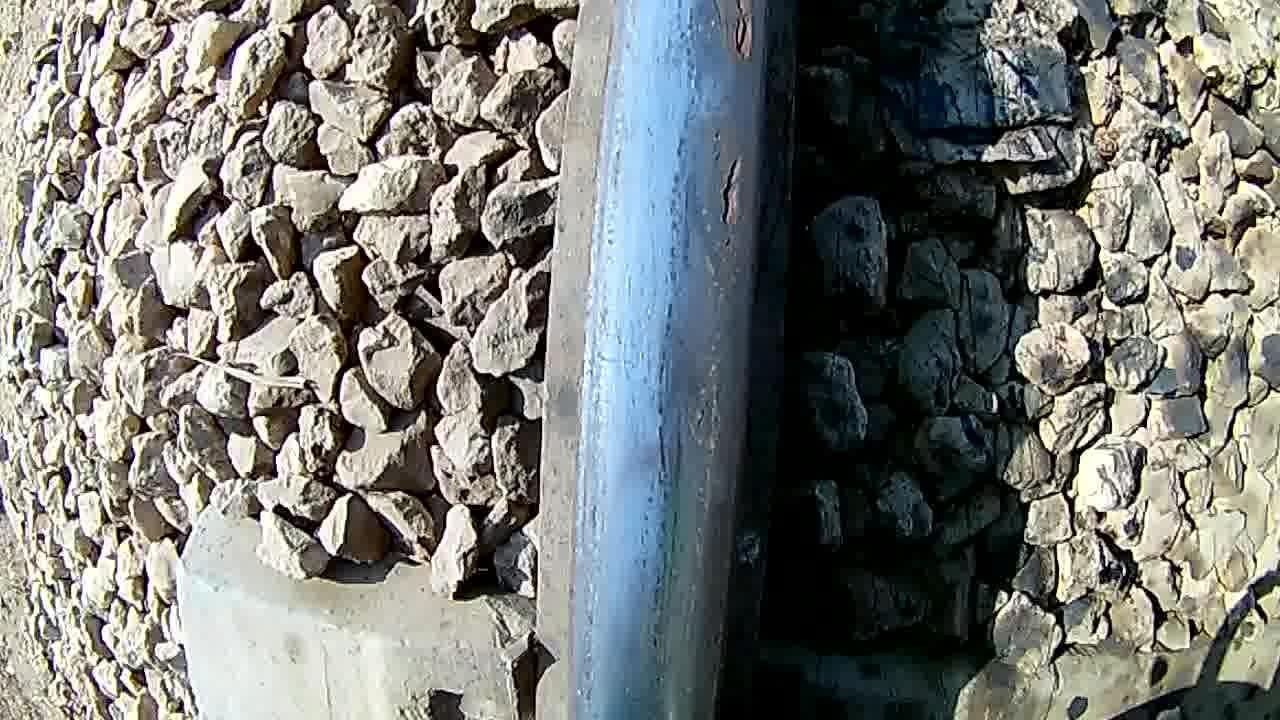crack: (574, 0, 766, 666)
